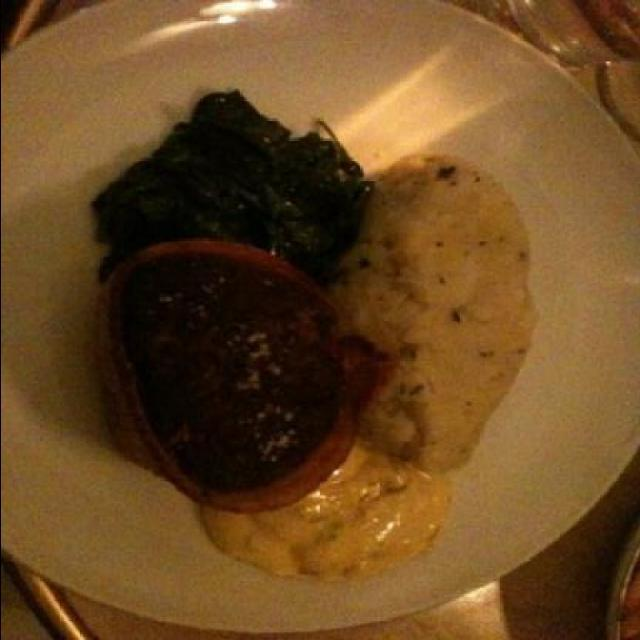Steak: (74, 84, 388, 508)
